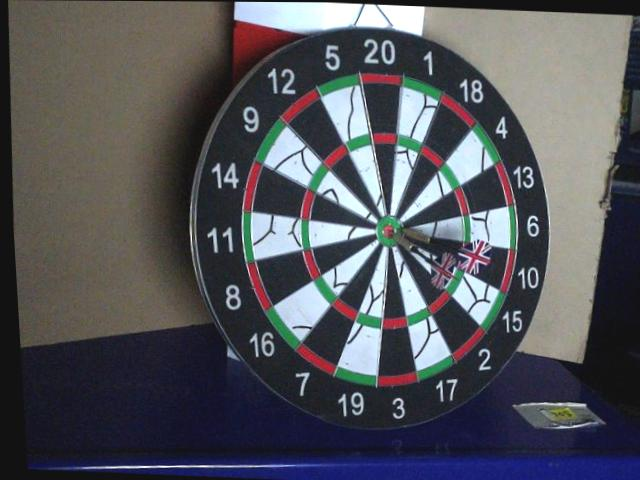bullseye: (379, 219, 403, 246)
